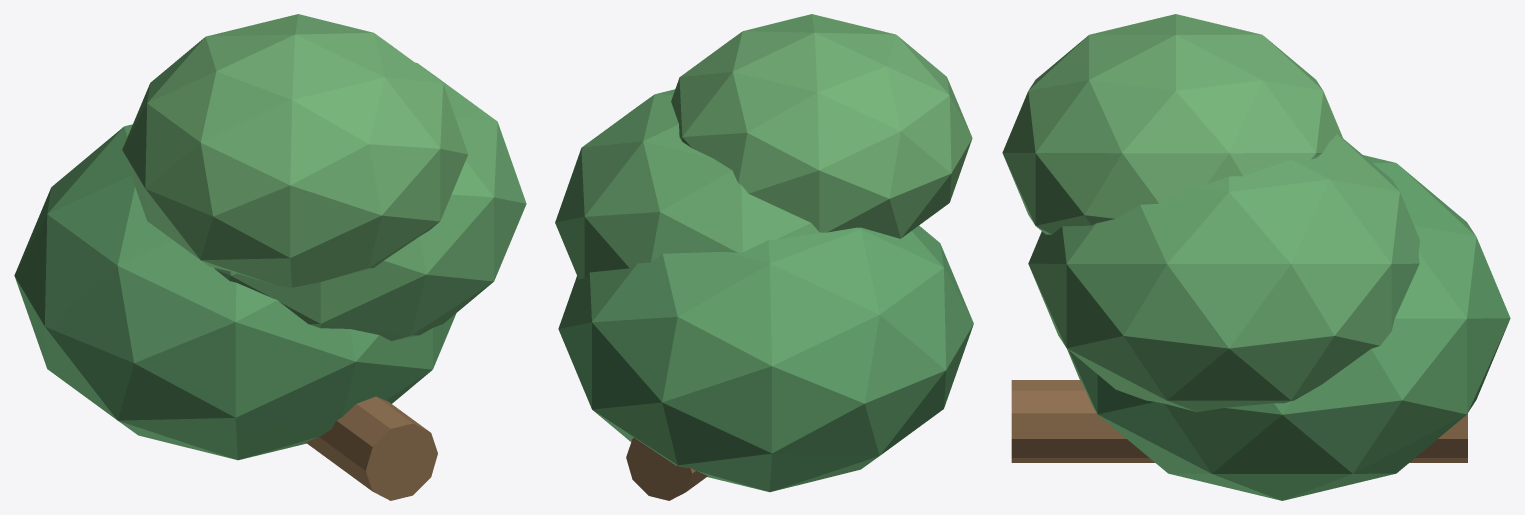
Rendered from tree_oak.glb.
3 views of the same model, side by side, from view 1: azimuth 30°, elevation 25°; view 2: azimuth 150°, elevation 25°; view 3: azimuth 270°, elevation 25° (orthographic). The views are drawn at different scales.
Visible parts, largest first — view 1: crown_2, crown_0, crown_1, trunk; view 2: crown_0, crown_2, crown_1, trunk; view 3: crown_1, crown_2, crown_0, trunk.
Part boxes in pixels (x1,y1,x2,y2): crown_2: (122,14,468,287); crown_0: (14,124,456,460); crown_1: (214,62,526,340); trunk: (306,396,437,500); crown_0: (558,225,973,492); crown_2: (671,14,972,238); crown_1: (555,89,820,279); trunk: (626,437,707,500); crown_1: (1028,134,1419,412); crown_2: (1002,14,1343,234); crown_0: (1067,155,1510,500); trunk: (1011,380,1467,462).
Bounding box in the file's own units: 2.61 × 2.54 × 2.67.
